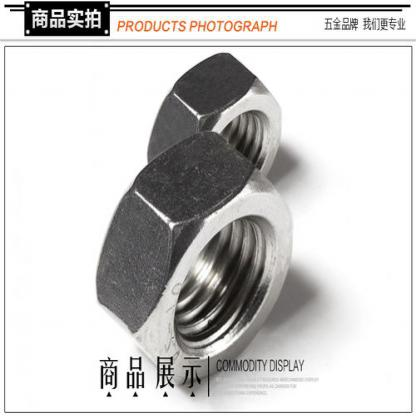FOD: (94, 127, 295, 390), (144, 50, 284, 218)
